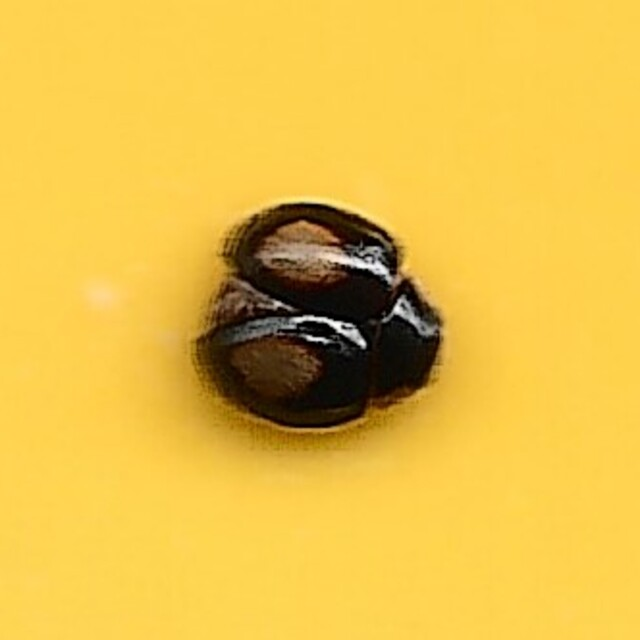Coleoptera: (193, 202, 447, 438)
